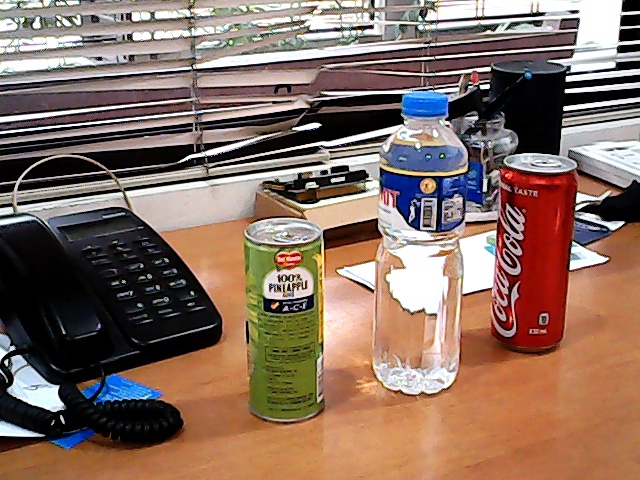Cola: (480, 146, 594, 366)
Pine Juice: (232, 210, 343, 431)
Summit Water: (368, 79, 479, 415)
